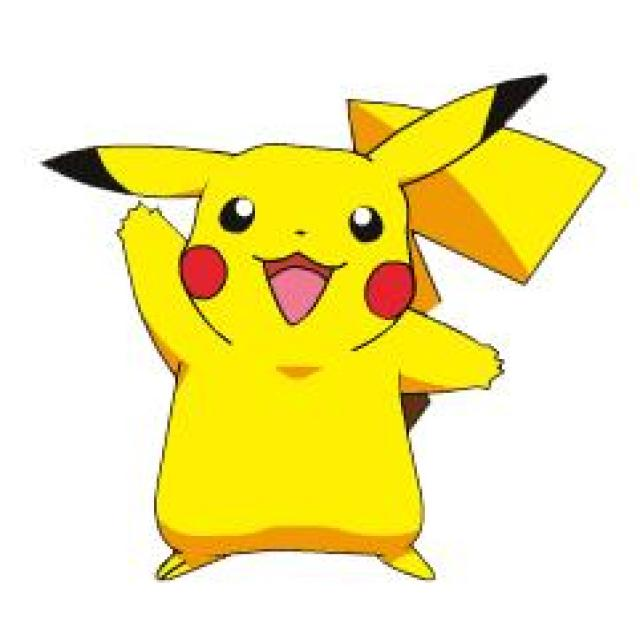pikachu: (44, 74, 605, 579)
